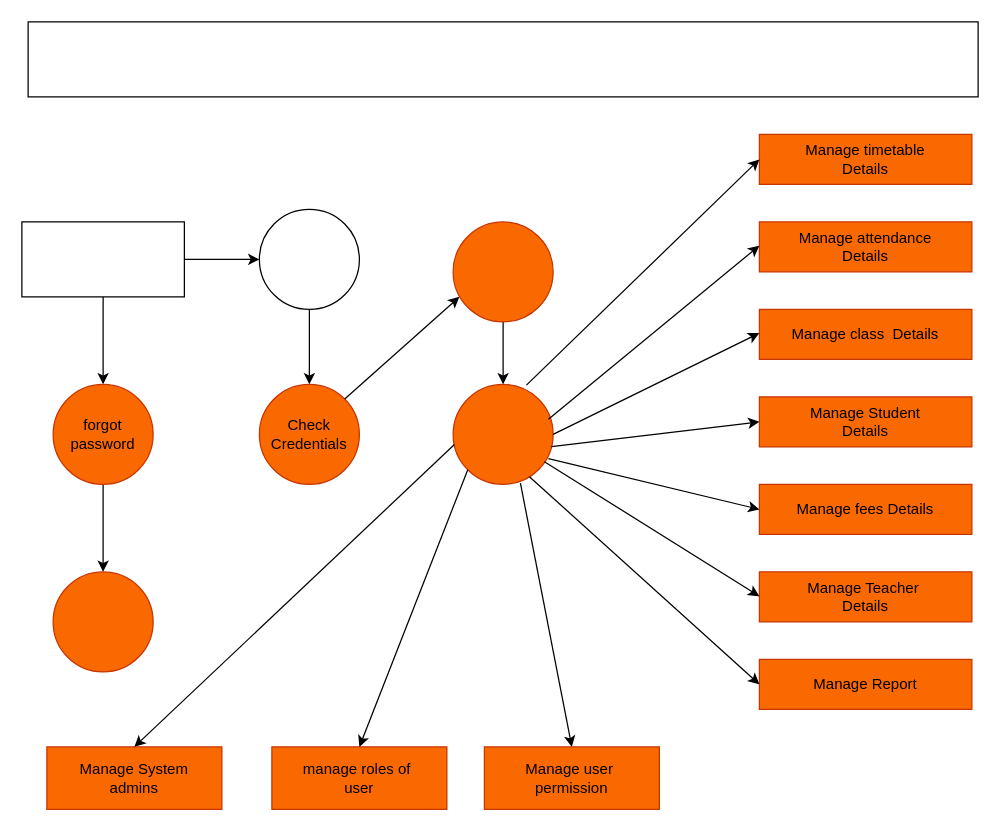
This 1000x831 diagram has some shape labels left out. The box of each missing label's shape, as (x1, y1, x2, y2) in pixels:
Admin: (21, 221, 184, 297)
check roles of access: (452, 221, 553, 322)
Login to system: (258, 208, 359, 309)
Manage modules: (452, 383, 553, 484)
send Email to user: (52, 571, 153, 672)
STUDENT INFORMATION SYSTEM: (27, 21, 978, 97)
